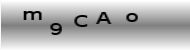9: (49, 21, 63, 35)
A: (95, 10, 112, 25)
C: (73, 13, 89, 27)
m: (23, 9, 42, 20)
o: (125, 11, 138, 23)
